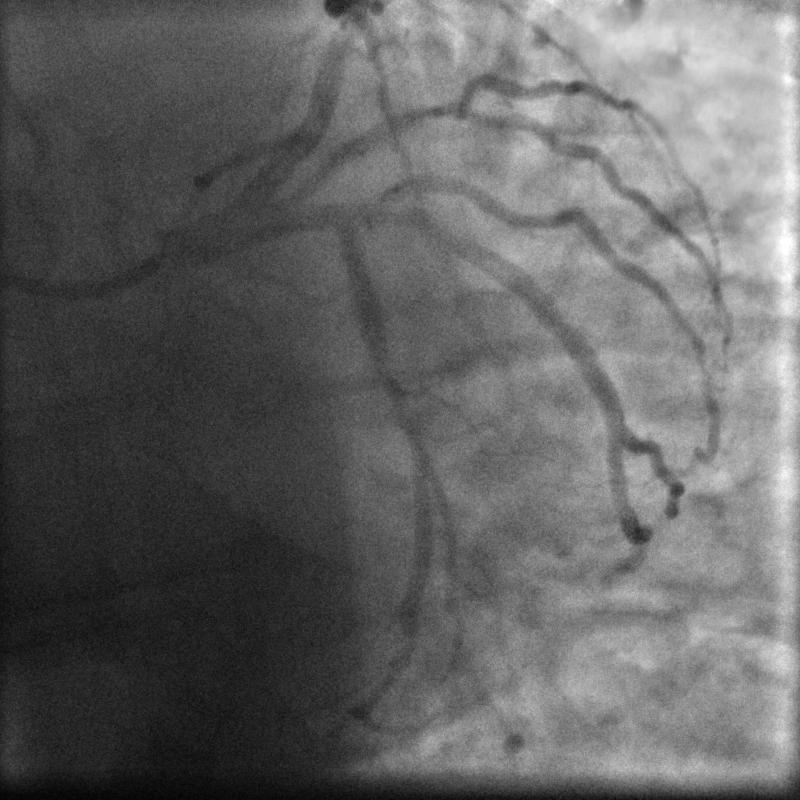Stenosis: (378, 362, 428, 450)
